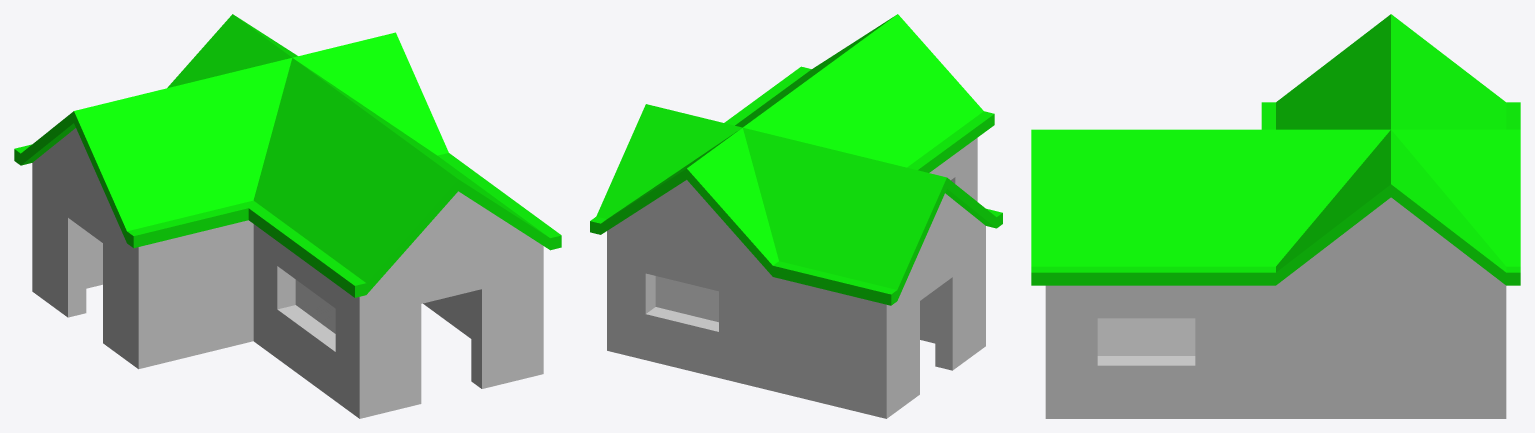
The model's file is interface0.gltf.
3 views of the same model, side by side, from view 1: azimuth 30°, elevation 25°; view 2: azimuth 150°, elevation 25°; view 3: azimuth 270°, elevation 25° (orthographic). The views are drawn at different scales.
Visible parts, largest first — view 1: roof.001, walls.001, Plane.004; view 2: roof.001, walls.001, Plane.003; view 3: roof.001, walls.001, Plane.005.
Boxes of the visible parts, left/top/right/bottom form: roof.001: left=14, top=14, right=561, bottom=297; walls.001: left=32, top=128, right=543, bottom=418; Plane.004: left=295, top=279, right=335, bottom=333; roof.001: left=590, top=14, right=1002, bottom=305; walls.001: left=607, top=138, right=985, bottom=418; Plane.003: left=655, top=276, right=718, bottom=322; roof.001: left=1031, top=14, right=1520, bottom=285; walls.001: left=1045, top=197, right=1506, bottom=418; Plane.005: left=1097, top=318, right=1195, bottom=355.
Bounding box in the file's own units: 0.8124 × 0.5358 × 0.9865.
